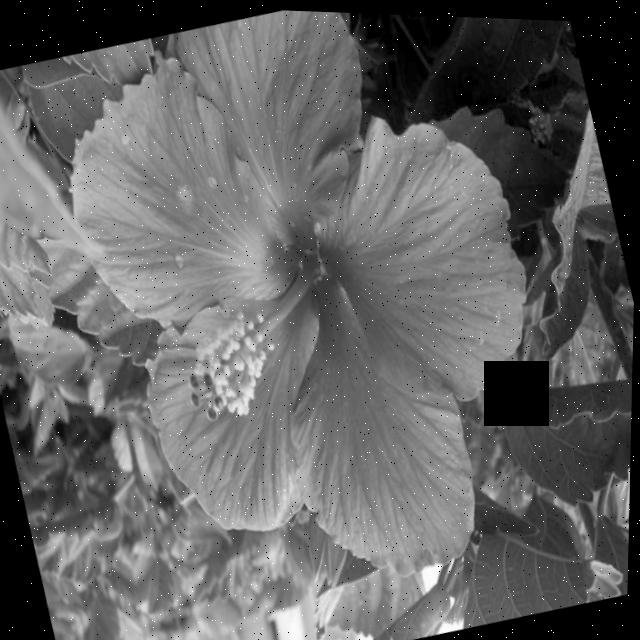hibiscus: (4, 0, 640, 640)
